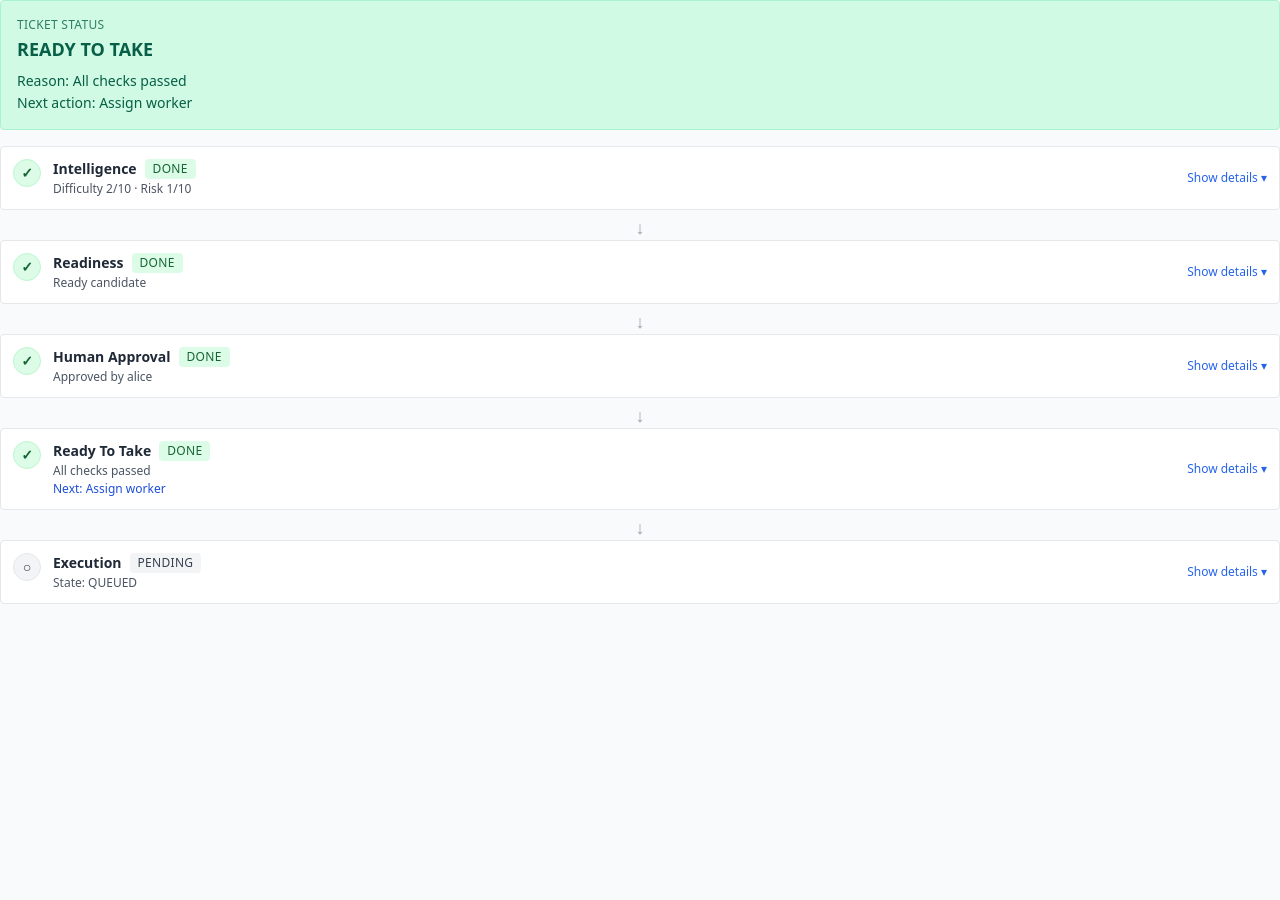
TicketWorkflowTimeline › expanding a collapsed step reveals its children
This screenshot has width=1280, height=900.
Click the heading that starts with "Intelligence": point(95, 168) [1, 147, 1279, 209]
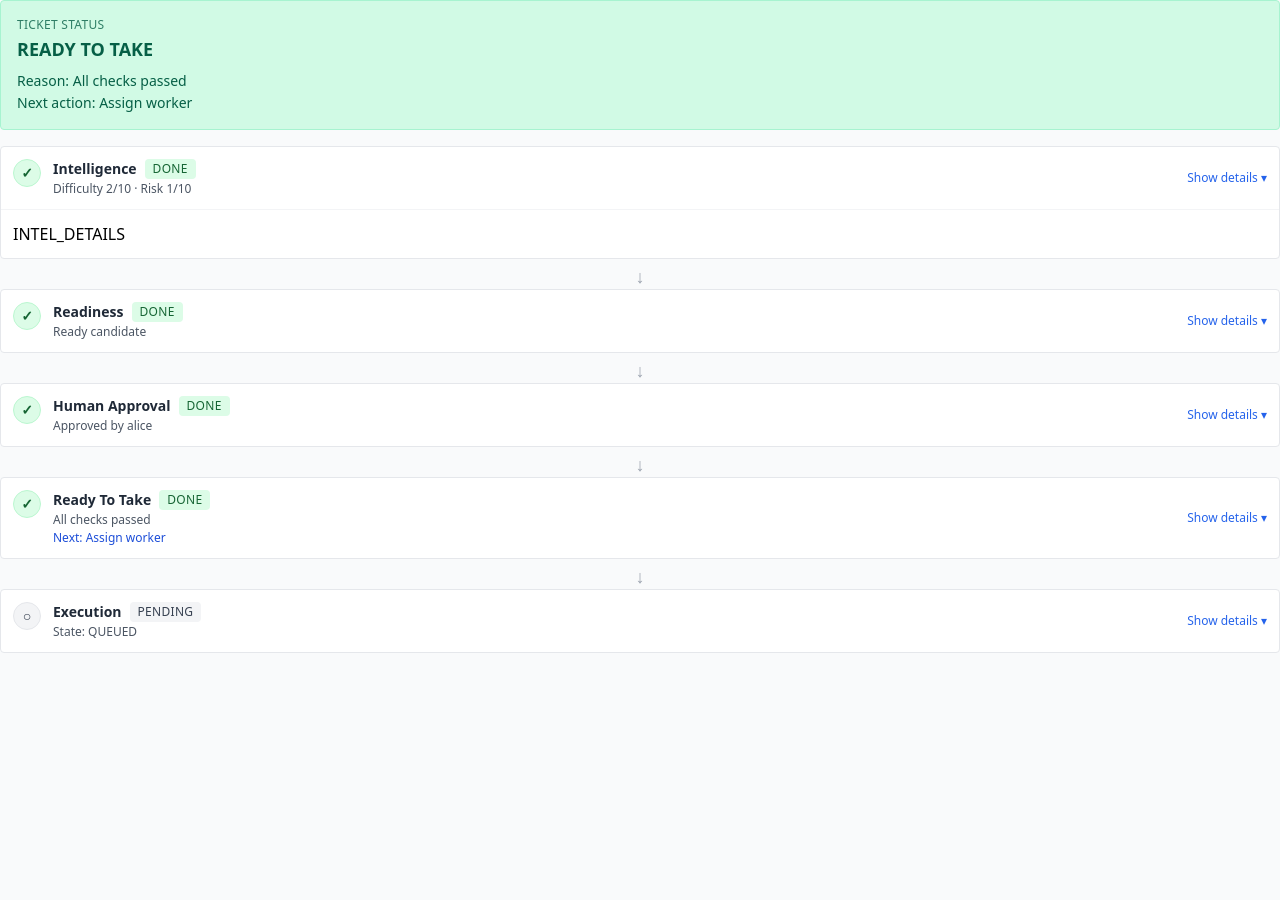
Now the text "INTEL_DETAILS" is shown, box [13, 223, 125, 245]
